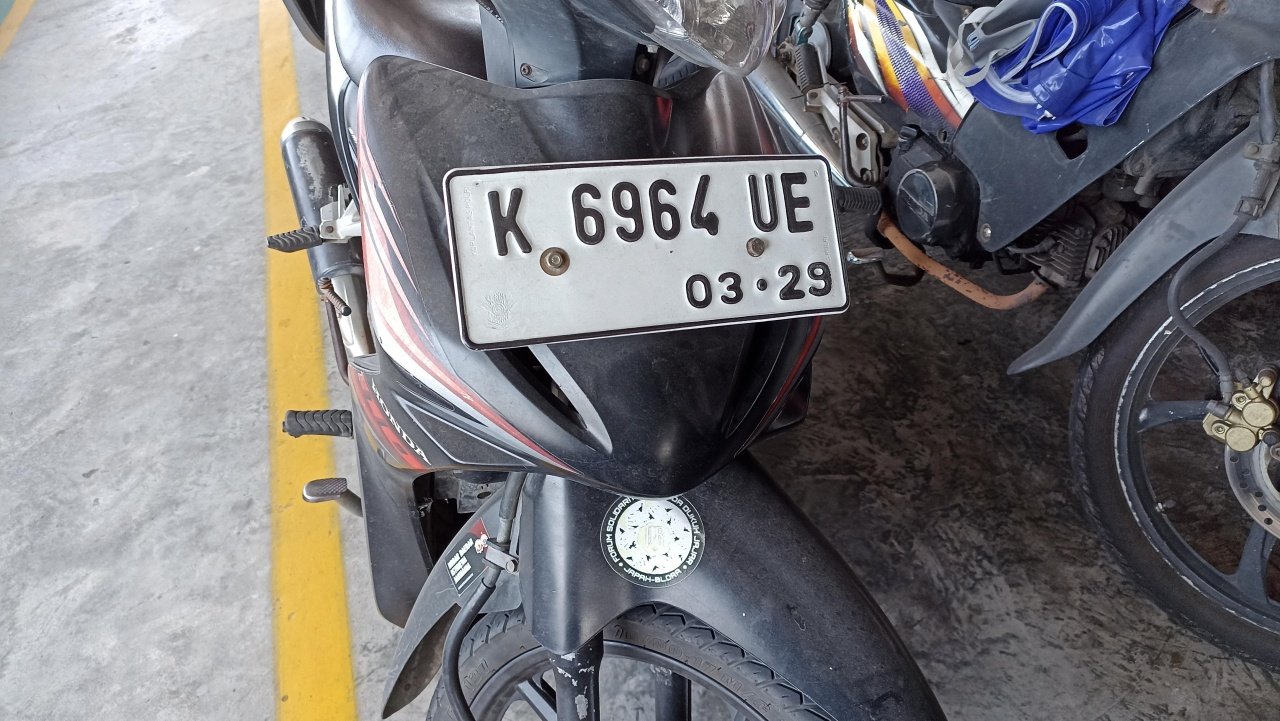plate: (444, 155, 850, 349)
